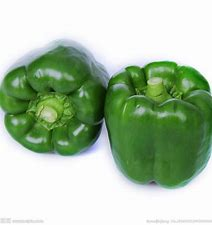fruit_pepper: (102, 60, 212, 191), (1, 37, 113, 159)
